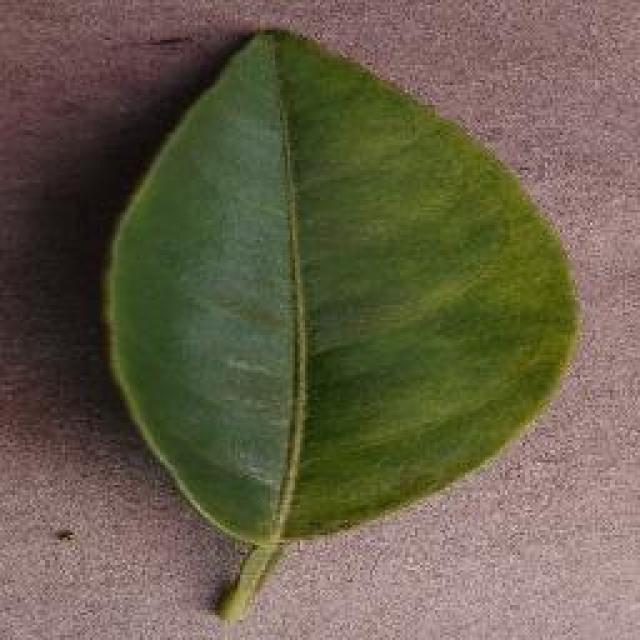Orange_Haunglongbing_Citrus_greening: (143, 69, 515, 508)
